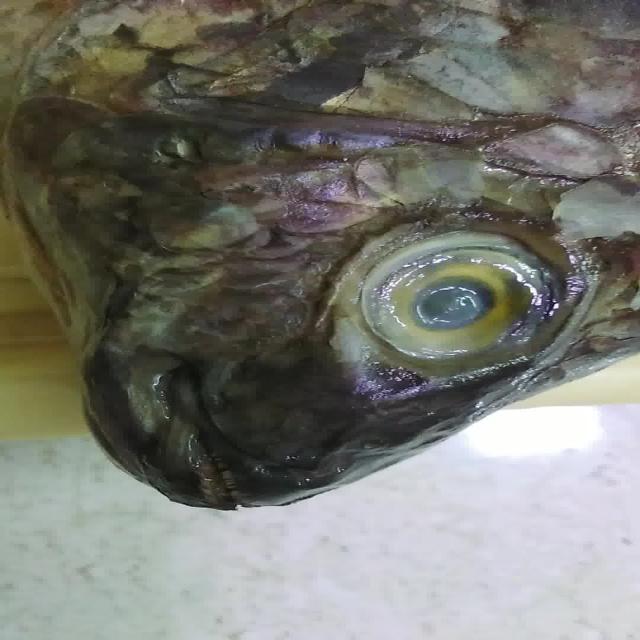Non-Fresh: (344, 214, 565, 374)
